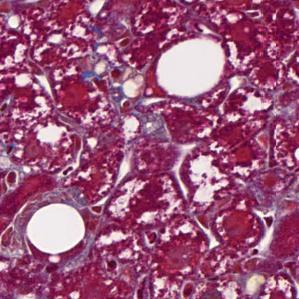steatosis: (156, 33, 227, 98), (26, 203, 87, 257)
